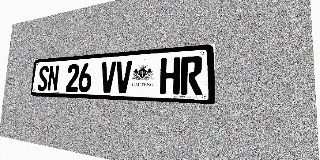2: (66, 64, 80, 92)
6: (78, 63, 92, 92)
H: (159, 57, 180, 95)
N: (47, 65, 59, 91)
R: (180, 56, 203, 95)
S: (37, 65, 49, 91)
V: (115, 60, 132, 93), (100, 61, 116, 93)
